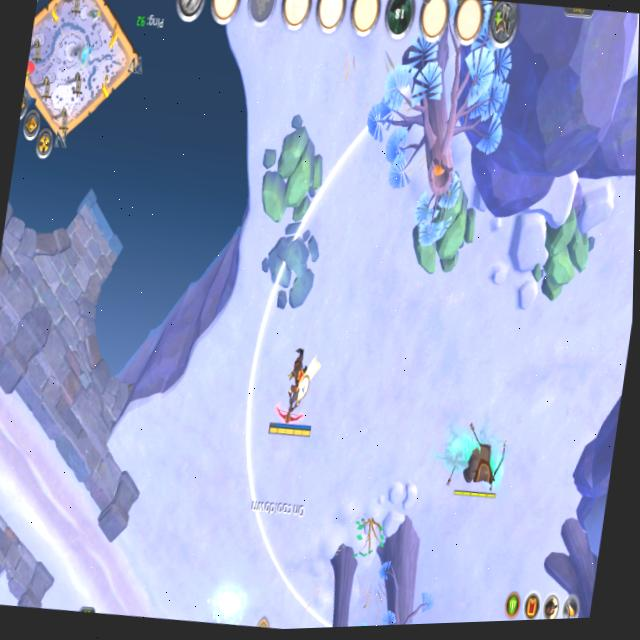red: (265, 340, 326, 446)
tree: (403, 162, 491, 290), (258, 108, 336, 231), (527, 194, 604, 311)
